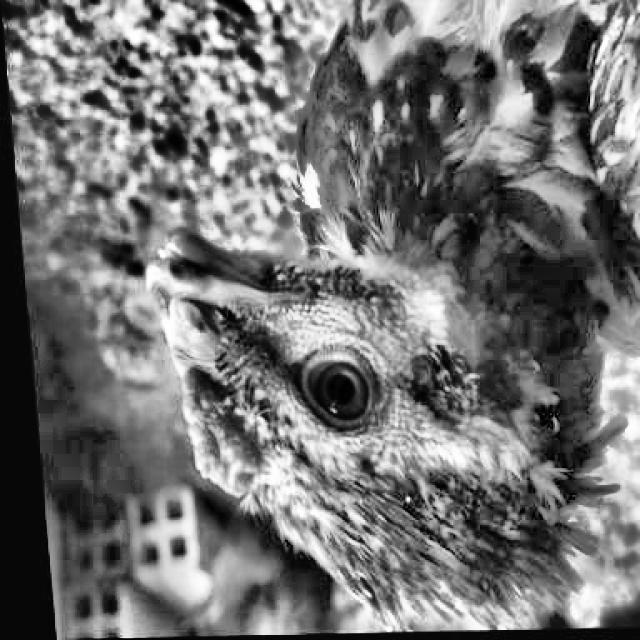Healthy: (284, 325, 404, 457)
